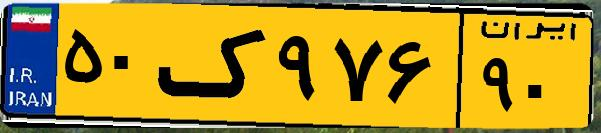0: (525, 38, 570, 115), (110, 28, 158, 98)
5: (57, 26, 110, 100)
6: (385, 28, 445, 110)
7: (330, 28, 385, 110)
9: (270, 28, 330, 110), (475, 38, 525, 113)
ک: (158, 12, 270, 120)
